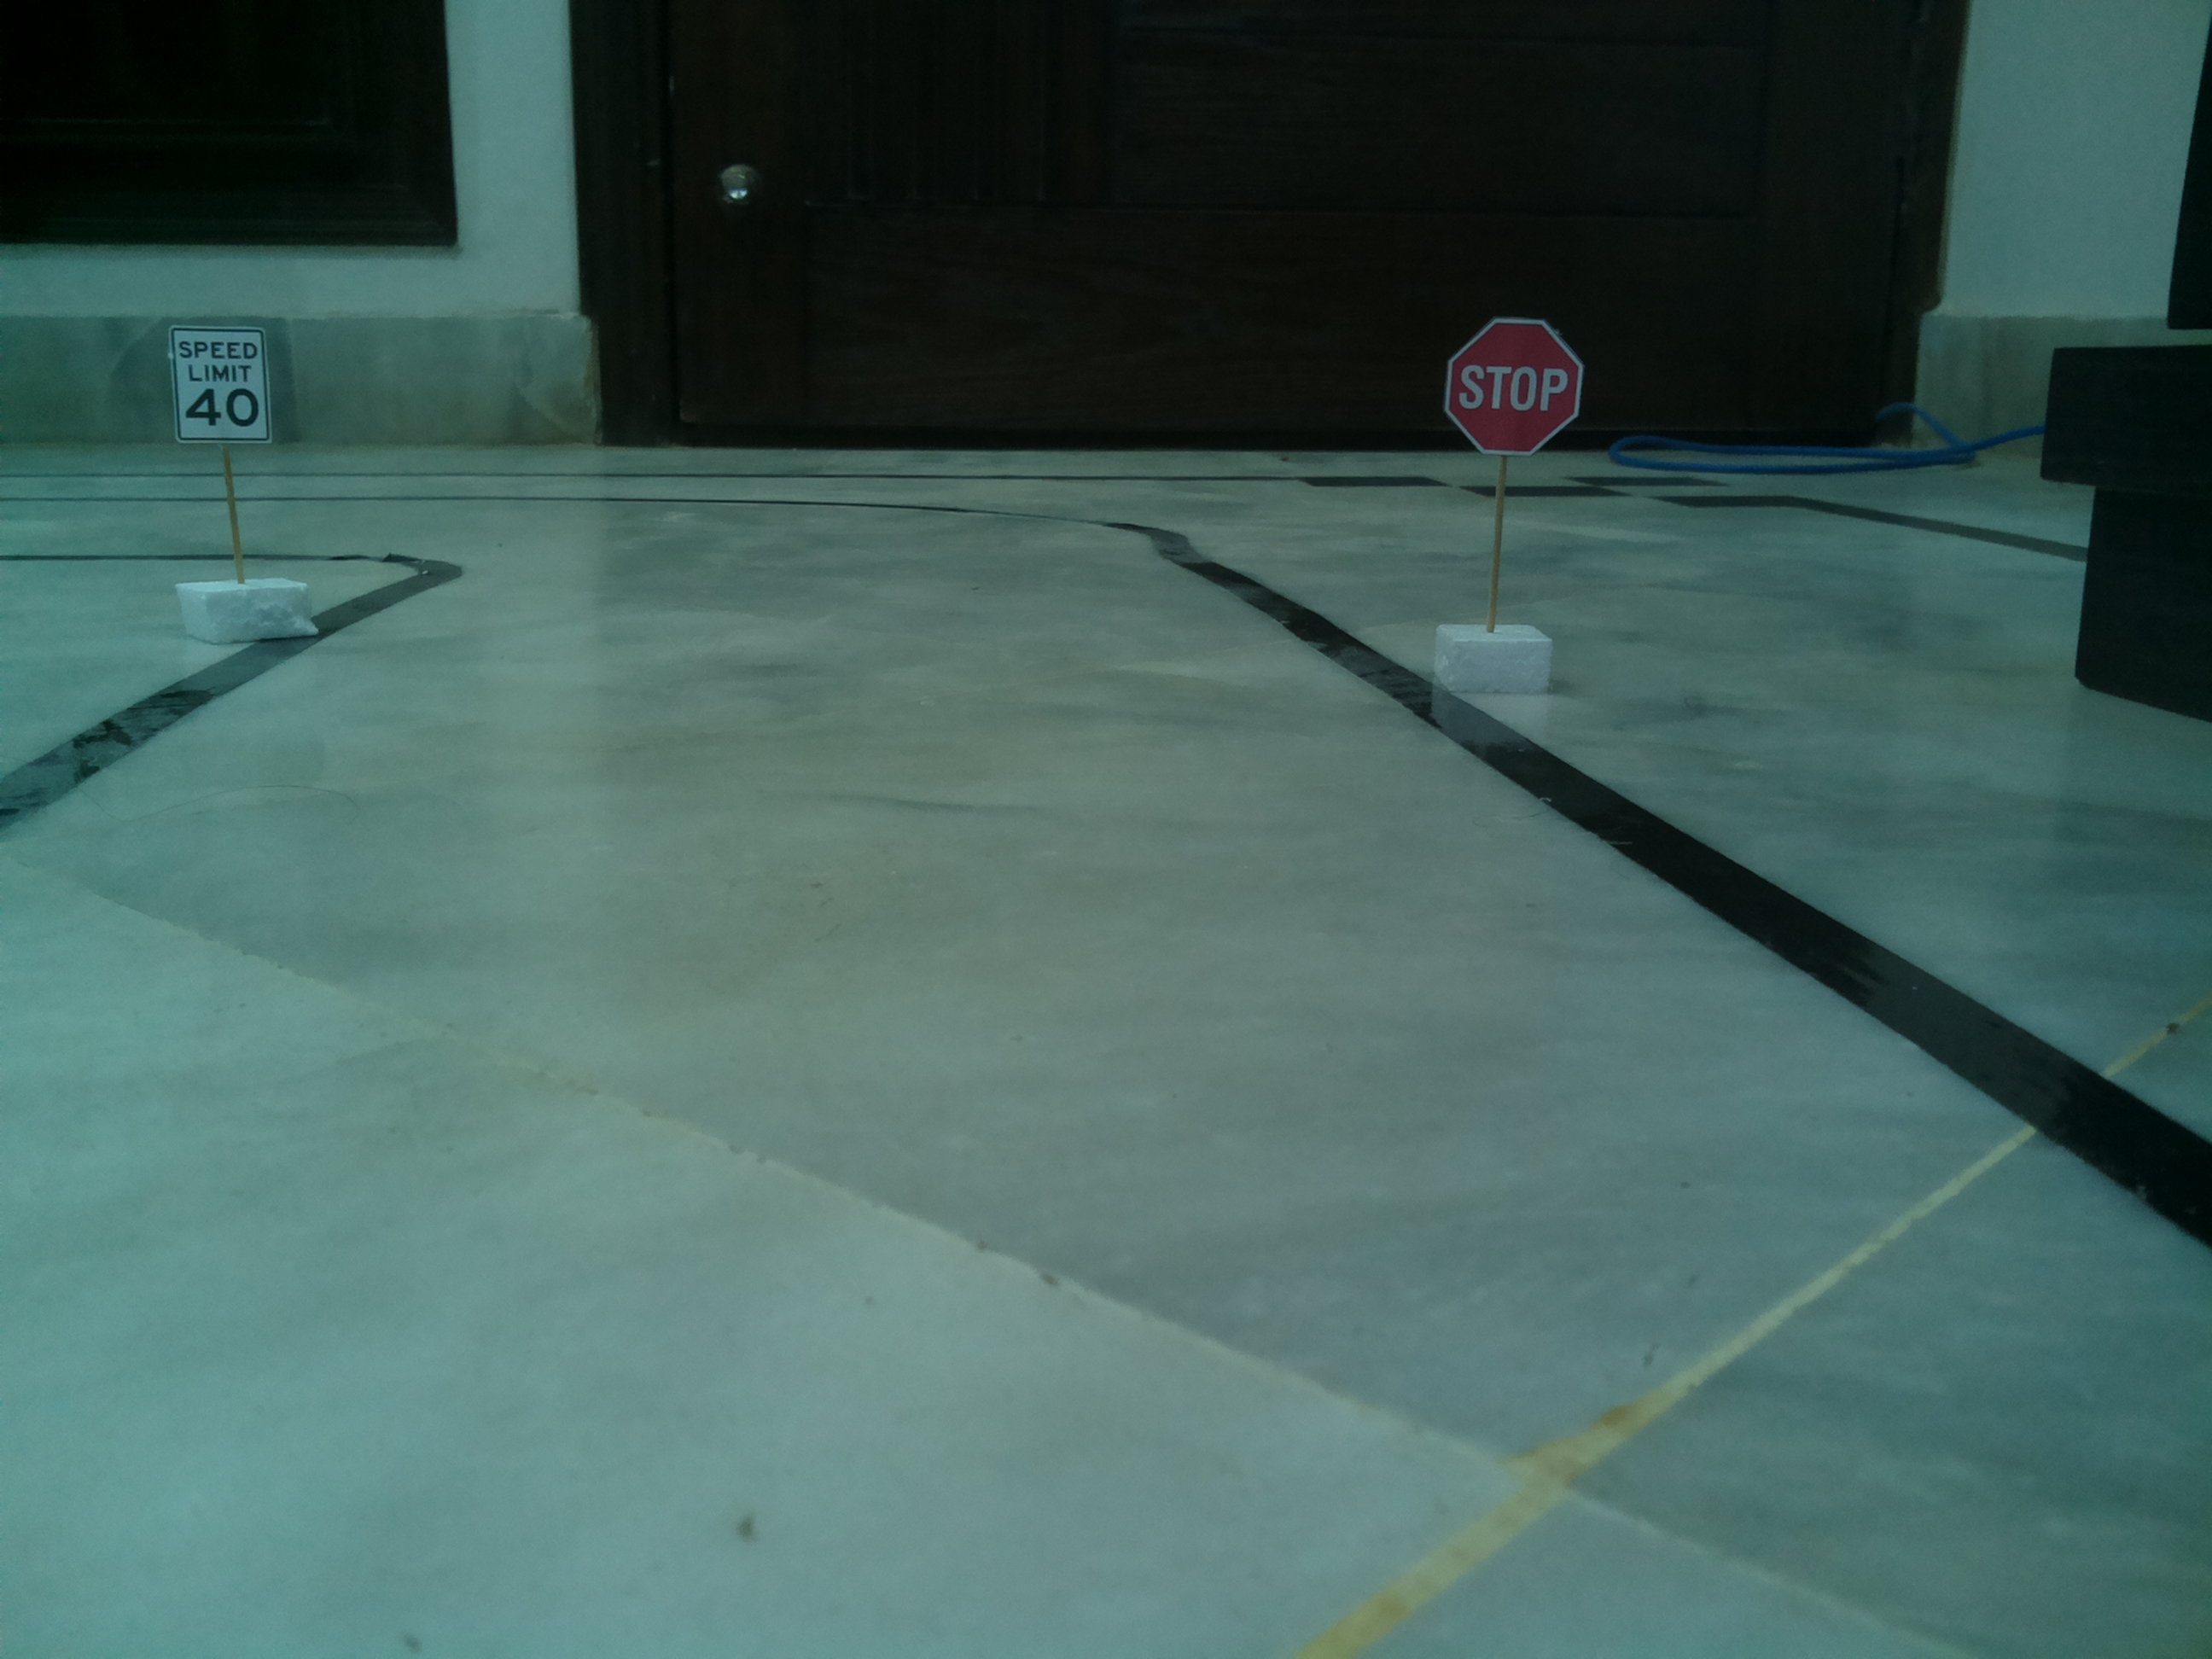Speed limit 40: (160, 319, 284, 448)
Stop sign: (1442, 312, 1597, 462)
